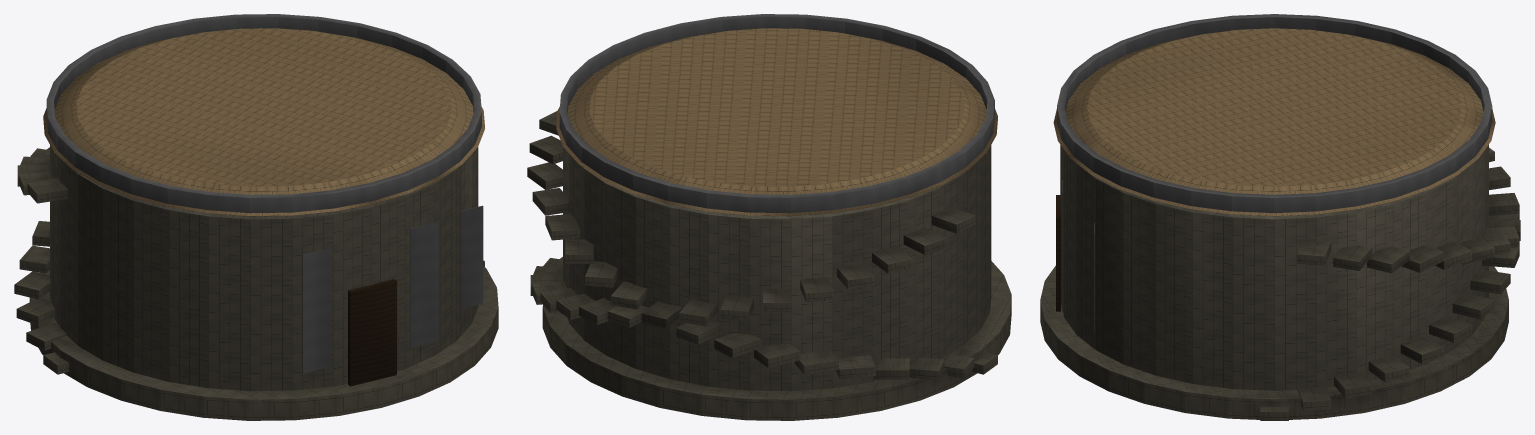
The model's file is granary-israelite.glb.
3 renders of one model, left to right at view 1: azimuth 30°, elevation 25°; view 2: azimuth 150°, elevation 25°; view 3: azimuth 270°, elevation 25°, orthographic.
Parts seen in each view (by area): view 1: LOD0; view 2: LOD0; view 3: LOD0.
Part boxes in pixels (left/top/right/bottom): LOD0: left=14, top=14, right=498, bottom=420; LOD0: left=527, top=14, right=1011, bottom=420; LOD0: left=1040, top=14, right=1520, bottom=420.
Size of what is drawn, in the model's own units: 1.47 by 0.71 by 1.44.
Materials: 2 (2 with a texture image).
